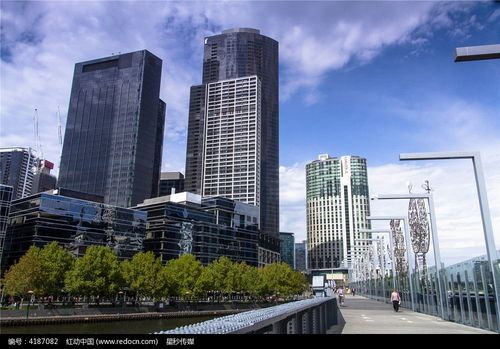buildings: (7, 143, 284, 286), (175, 18, 294, 215), (52, 41, 167, 215), (291, 143, 394, 297)
